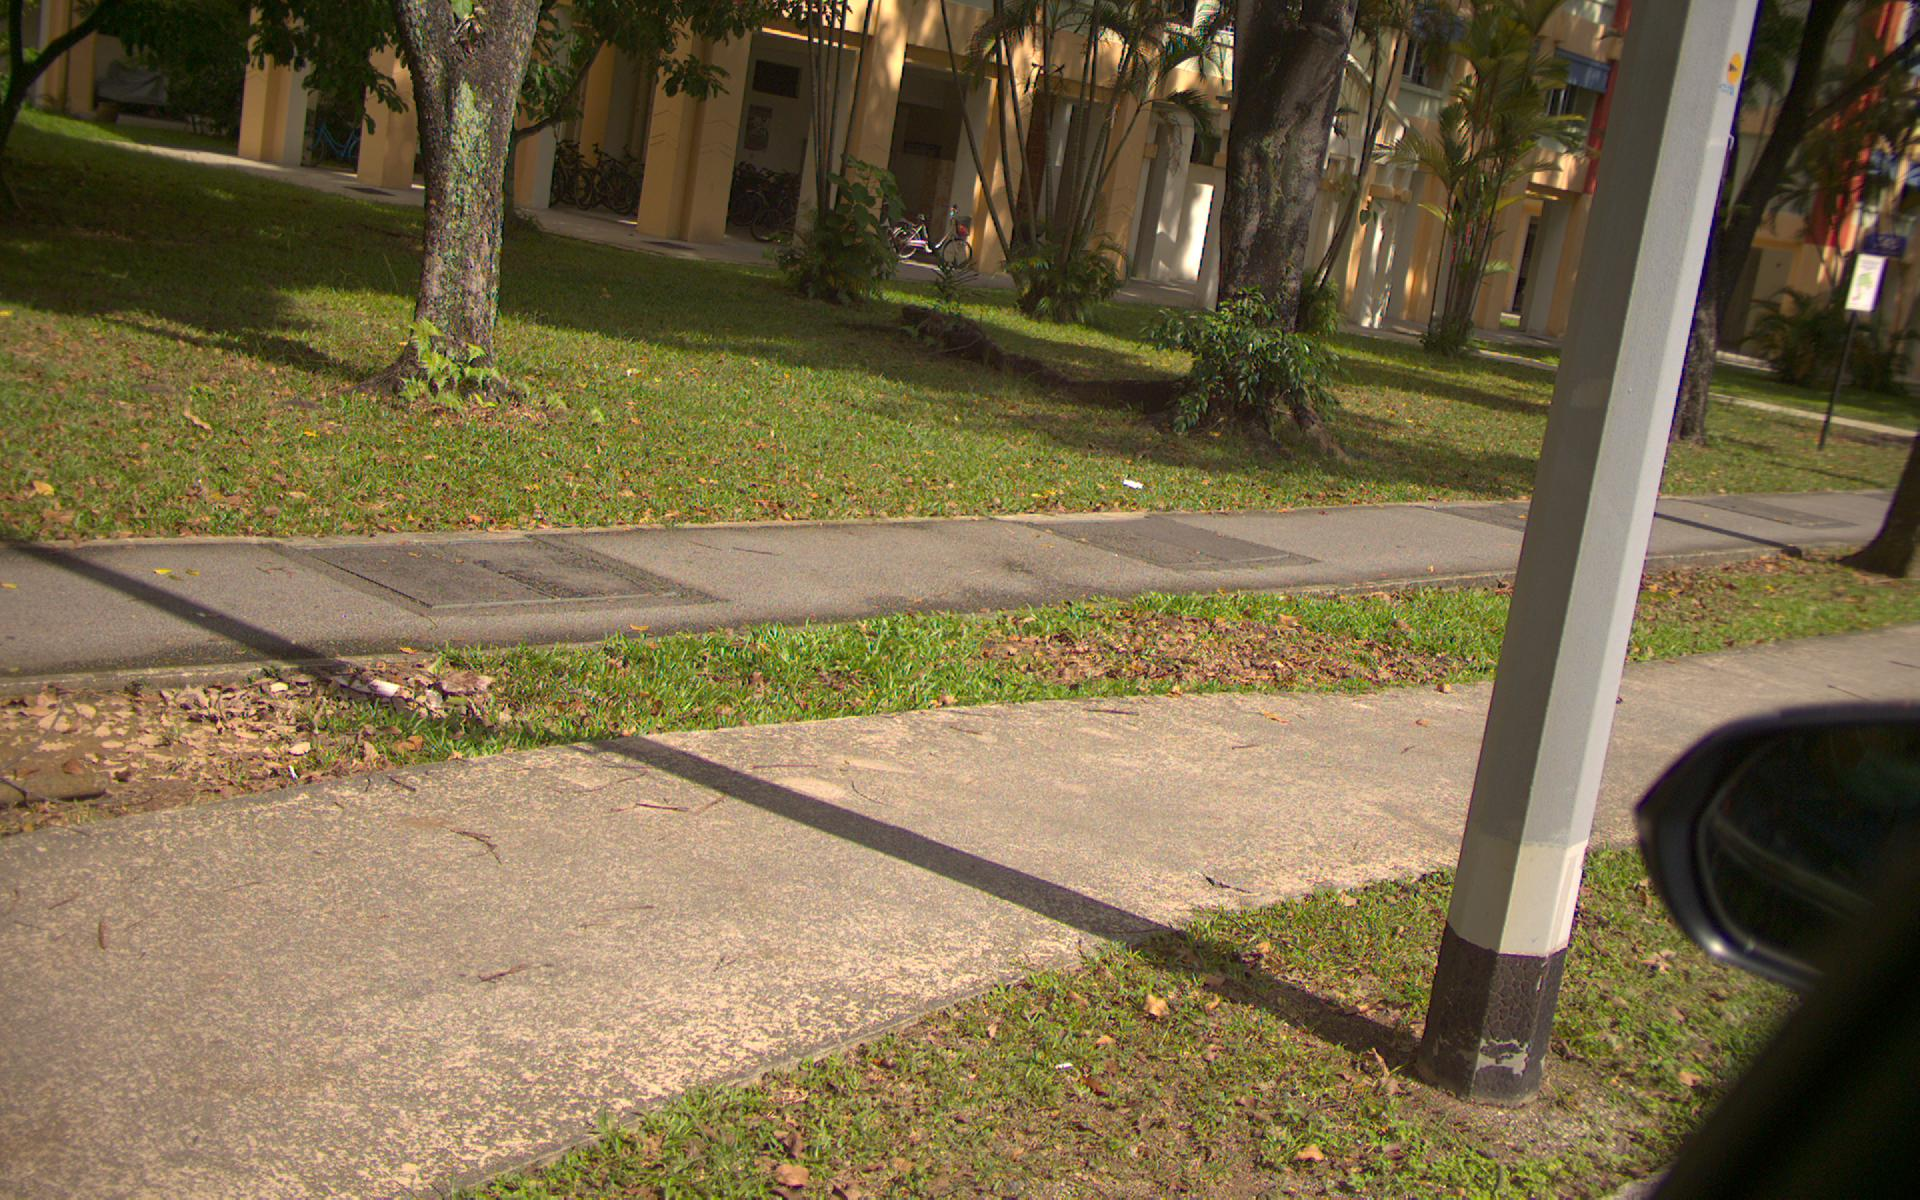pathway_low: (15, 832, 702, 1123), (4, 542, 784, 637)
road_turf_low: (1, 324, 1914, 484), (10, 688, 292, 805)
